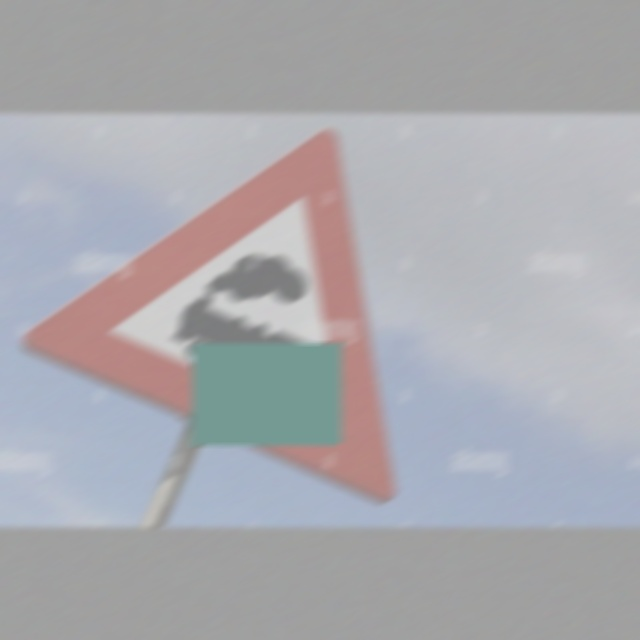Unguarded_Level_Crossing: (60, 133, 396, 454)
